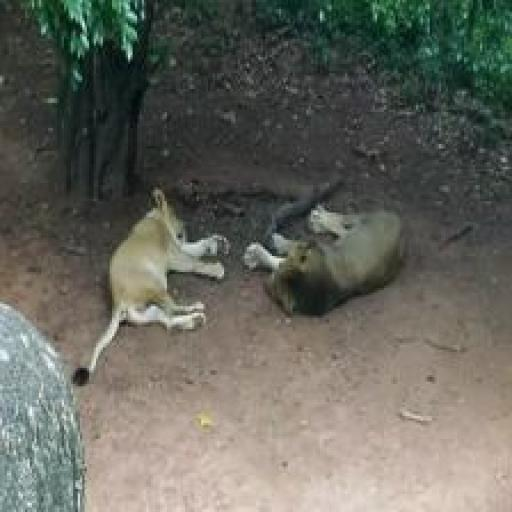Tiger: (71, 172, 241, 426)
